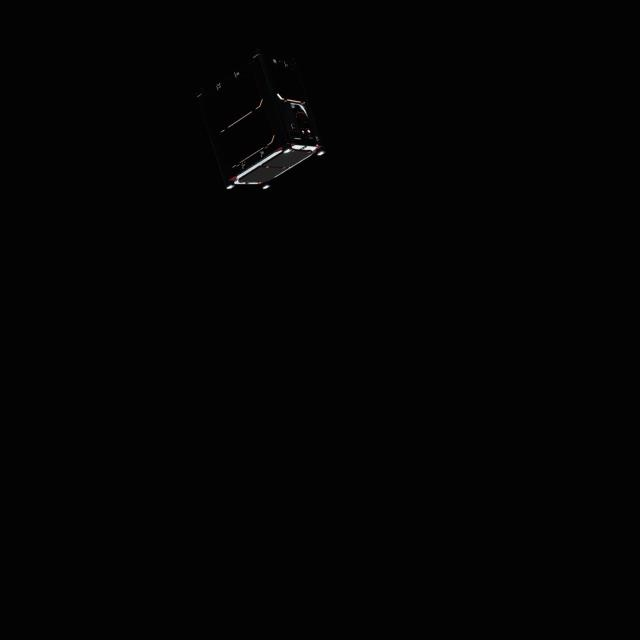satellite: (192, 47, 328, 194)
